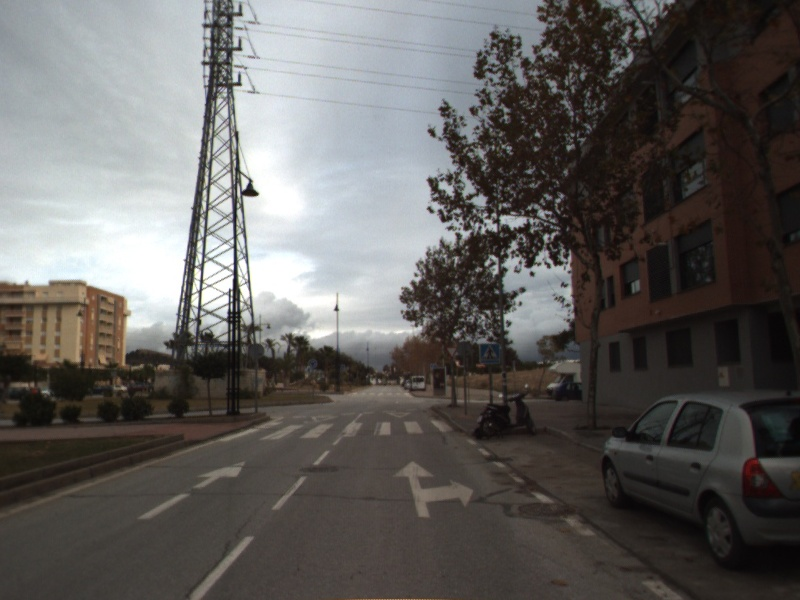STRAIGHT: (136, 459, 247, 521)
STRAIGHT_RIGHT: (391, 459, 476, 519)
